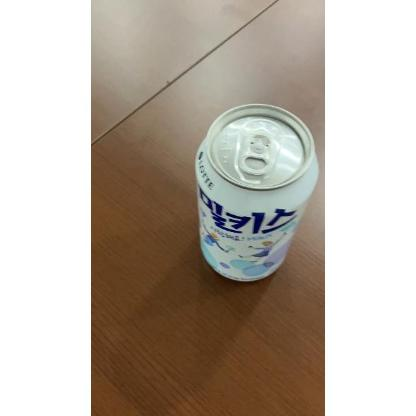Can: (194, 101, 320, 284)
